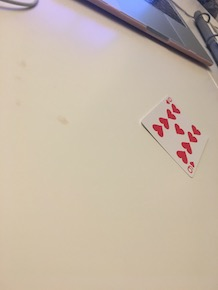NineOfHearts: (137, 90, 211, 180)
